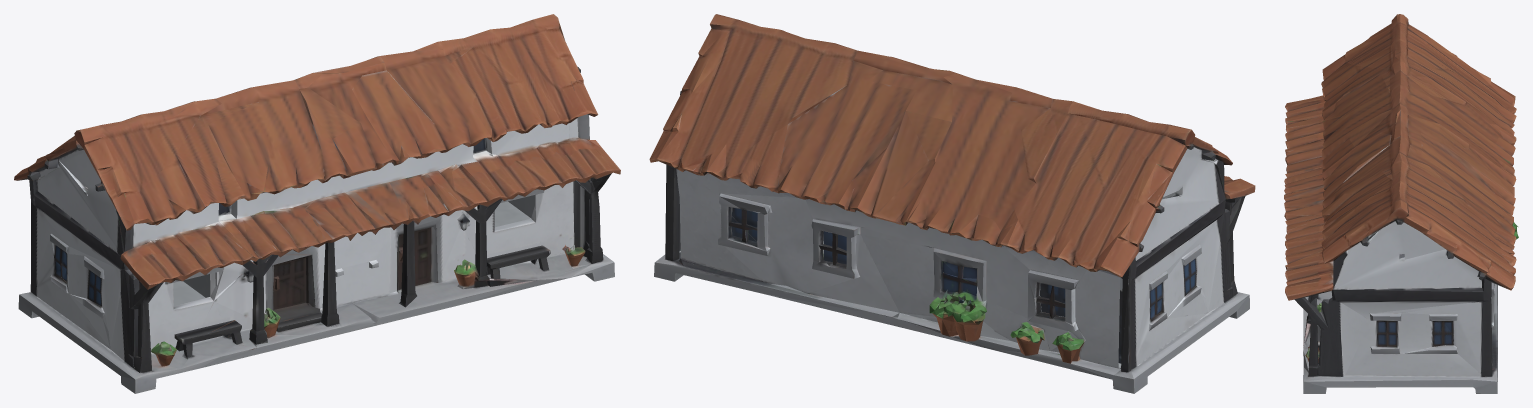
The model's file is almshouse.glb.
3 renders of one model, left to right at view 1: azimuth 30°, elevation 25°; view 2: azimuth 150°, elevation 25°; view 3: azimuth 270°, elevation 25°, orthographic. The views are drawn at different scales.
Parts seen in each view (by area): view 1: almshouse; view 2: almshouse; view 3: almshouse.
Part boxes in pixels (bbox=[...]): almshouse: bbox=[14, 14, 620, 393]; almshouse: bbox=[649, 14, 1255, 393]; almshouse: bbox=[1284, 14, 1518, 393].
Size of the model in its own units: 14.84 by 6.5 by 7.46.
1 material, 1 textured.
